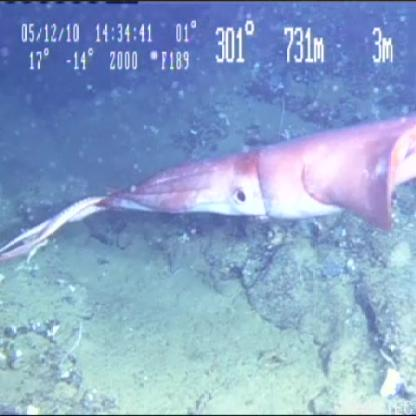Bio: (1, 110, 415, 264)
